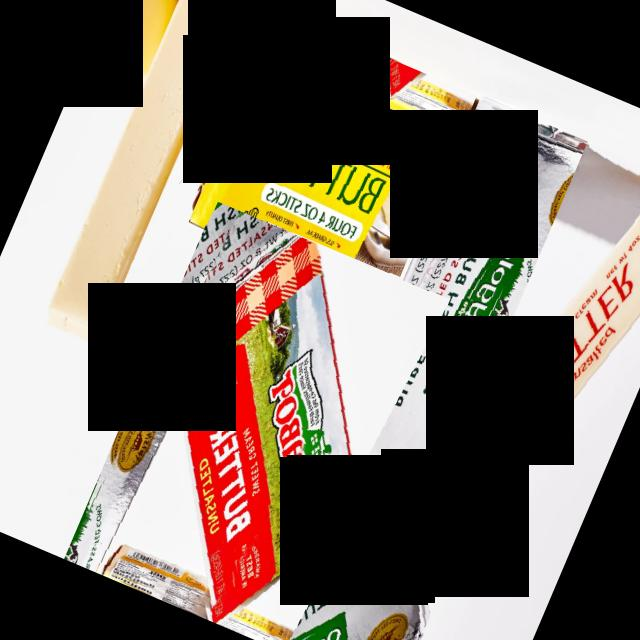butter: (63, 200, 434, 640), (325, 96, 587, 508), (186, 11, 476, 309), (440, 143, 640, 550), (206, 435, 472, 640)
